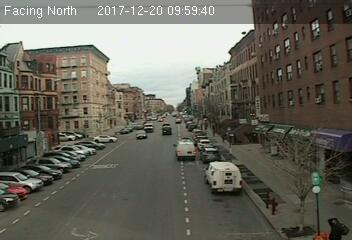car: (200, 146, 220, 160), (162, 123, 171, 135), (135, 129, 146, 138)
truck: (203, 160, 243, 196), (174, 138, 197, 161)
